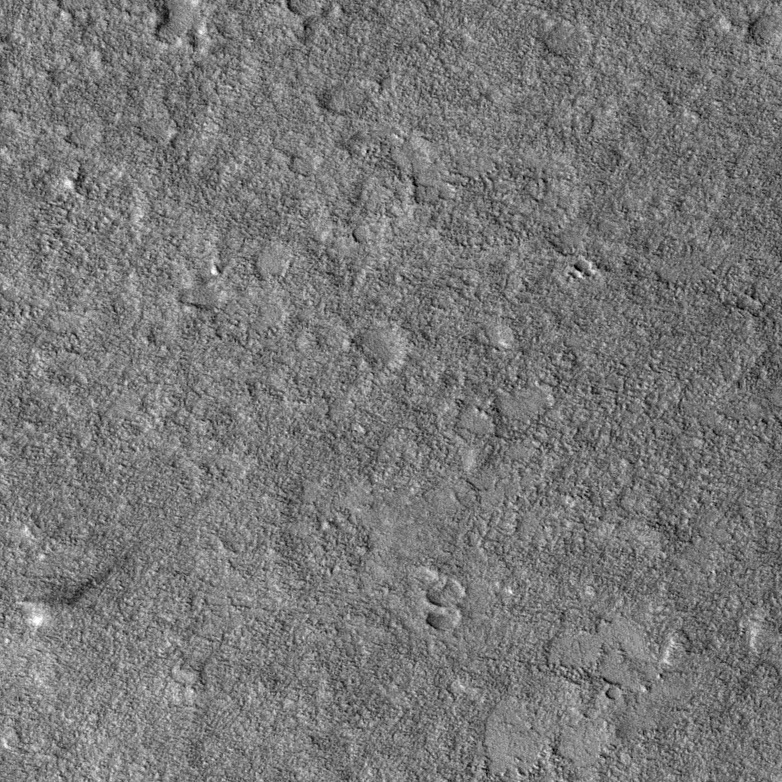dust_devil: (14, 563, 116, 630)
